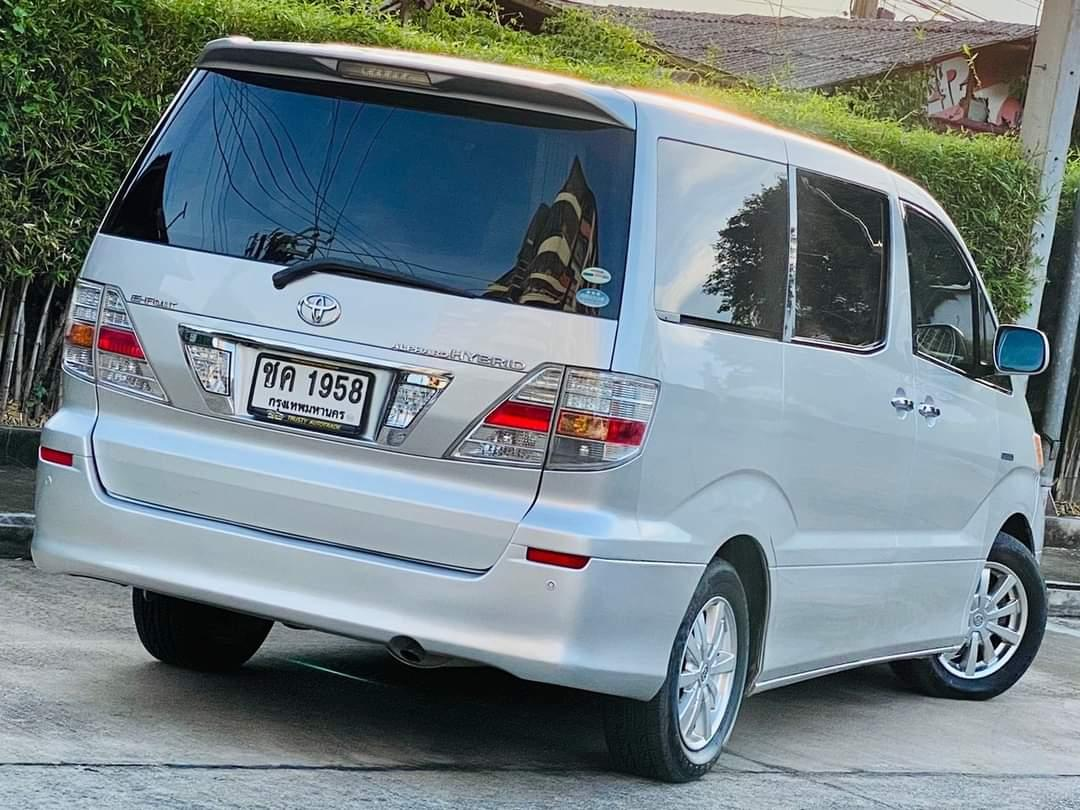license-plate: (239, 347, 382, 442)
